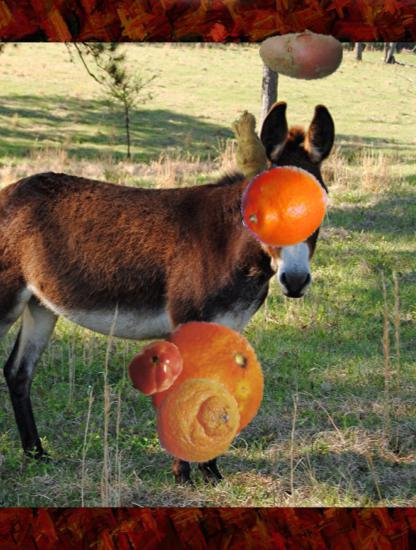Clementine: (141, 317, 269, 445)
Ginger: (212, 109, 287, 184)
Mandarine: (153, 377, 241, 465)
Potato: (259, 11, 345, 97)
Tangelo: (239, 160, 328, 249)
Tomato: (126, 338, 186, 398)
